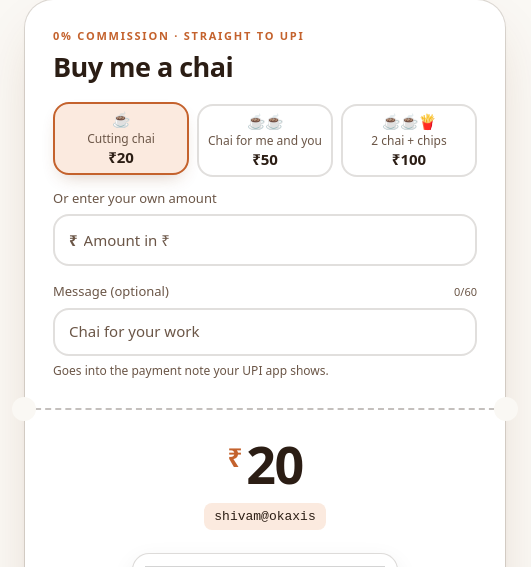
Test: PaymentCard — amount selection (P0.3) › warns above the soft cap but still pays (P0.3)
This screenshot has width=531, height=567.
In the field labelled "Or enter your own amount": (272, 240) left=84, top=216, right=461, bottom=264, type "200000"
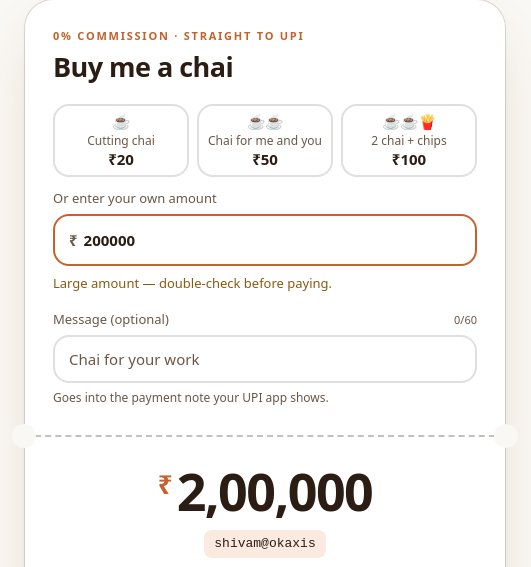
Expected: the text "Large amount — double-check before paying." is shown, left=53, top=274, right=332, bottom=292
